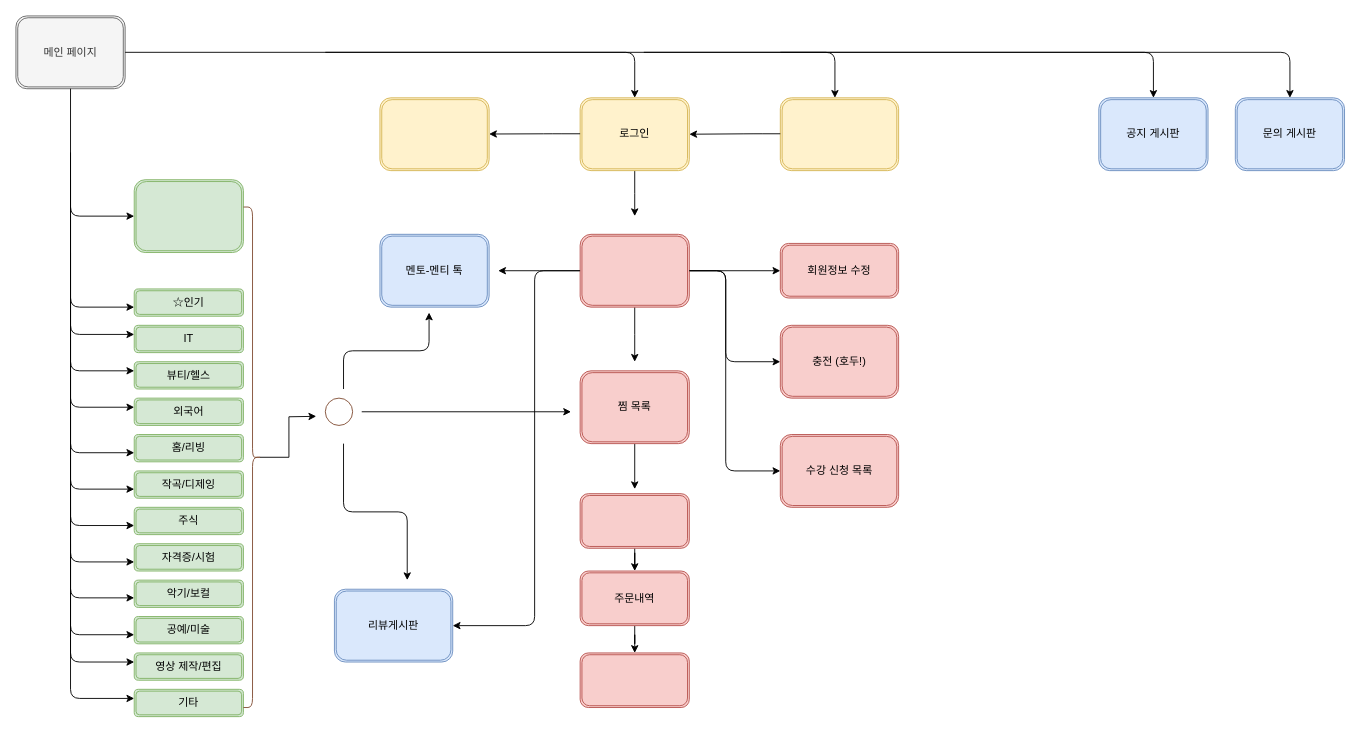
Some shapes in this 1360 by 733 pixel diagram are drawn without their labels. Here are the shapes that lost their labels. From the top down, the centre of each, then its label:
[434,134]: 멘토 등록 (+ 가이드)
[839,134]: 회원 등록
[188,216]: 카테고리 검색
[634,270]: 마이페이지
[634,520]: 결제
[634,680]: 주문취소
